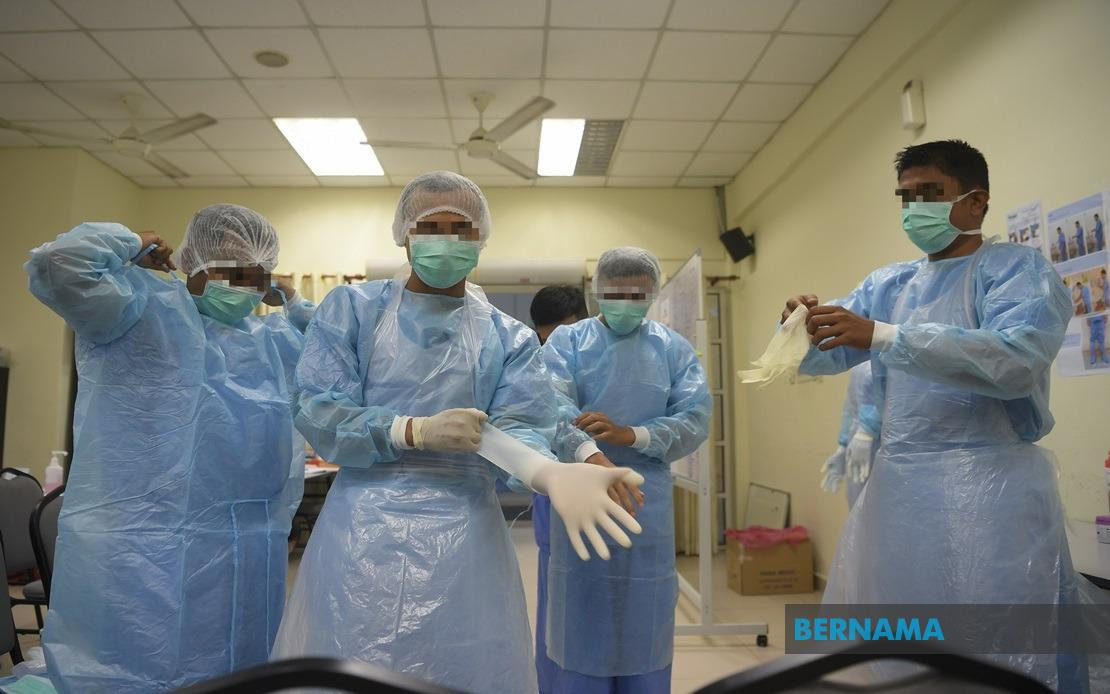Coverall: (72, 281, 302, 694), (307, 286, 528, 691)
Gloves: (531, 449, 641, 576), (409, 401, 491, 458), (812, 438, 851, 500), (844, 424, 879, 489)
Mask: (898, 174, 976, 259), (406, 217, 482, 290), (187, 263, 263, 324), (597, 280, 652, 336)
